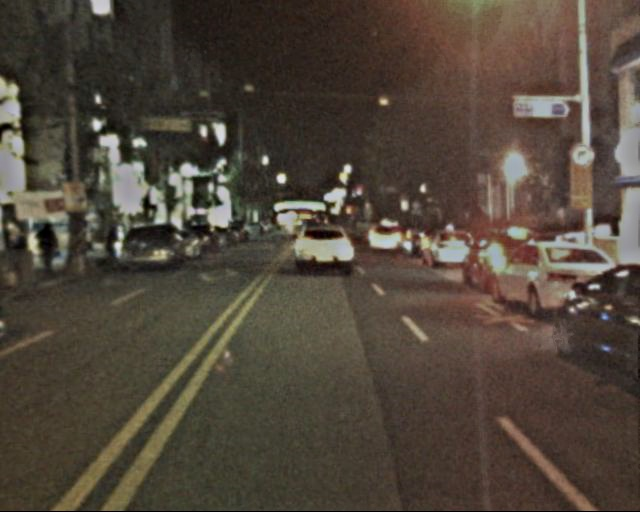person: (37, 218, 70, 273)
